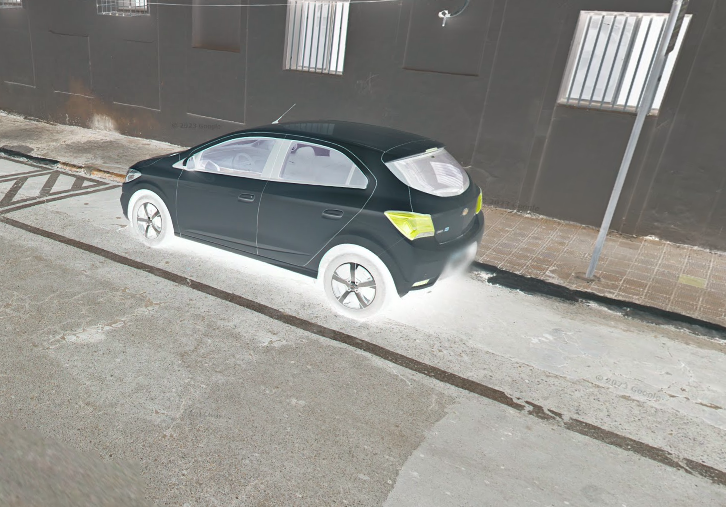car: (117, 99, 489, 328)
